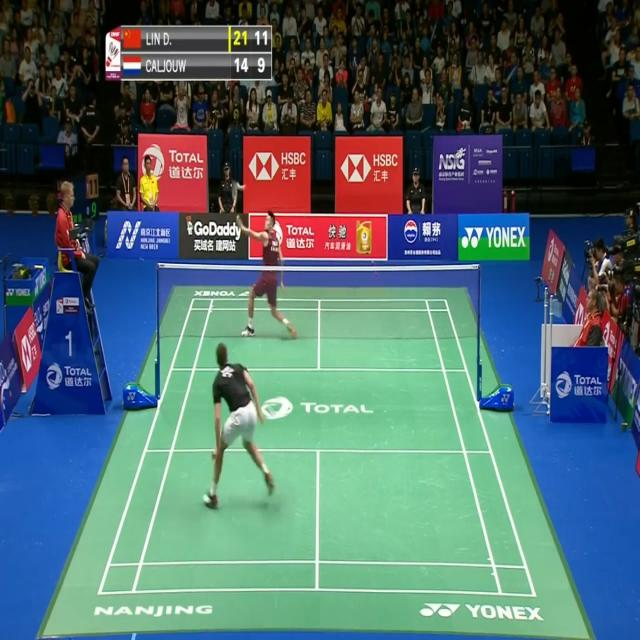Player1: (199, 341, 281, 508)
Player2: (230, 192, 302, 339)
